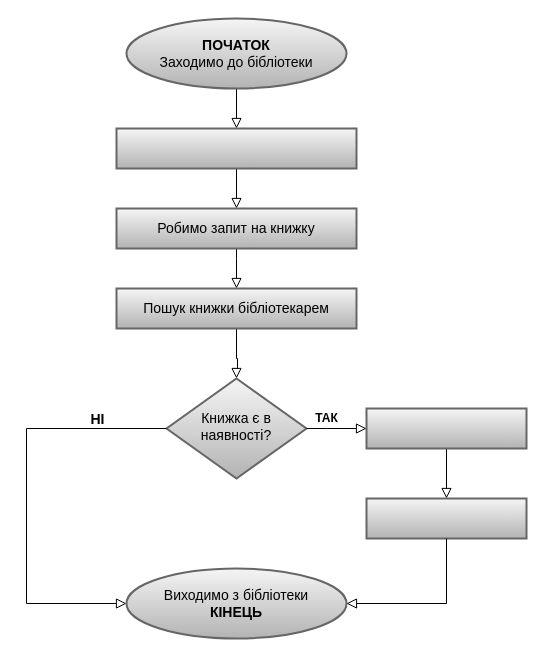
The diagram is 545 pixels wide and 656 high, and some of its shapes have lost their labels. The shapes that lost their labels are listed below. From the top down, each one's centre as x and y in pixels, then its label:
the point at 236,148: Пред’являємо читацький квиток
the point at 446,428: Беремо книжку
the point at 446,518: Розписуємося за отримання
